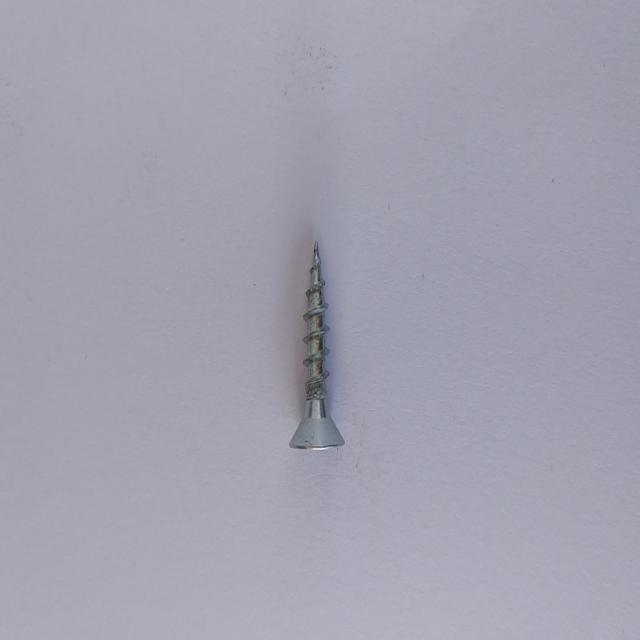Screw: (290, 241, 345, 449)
